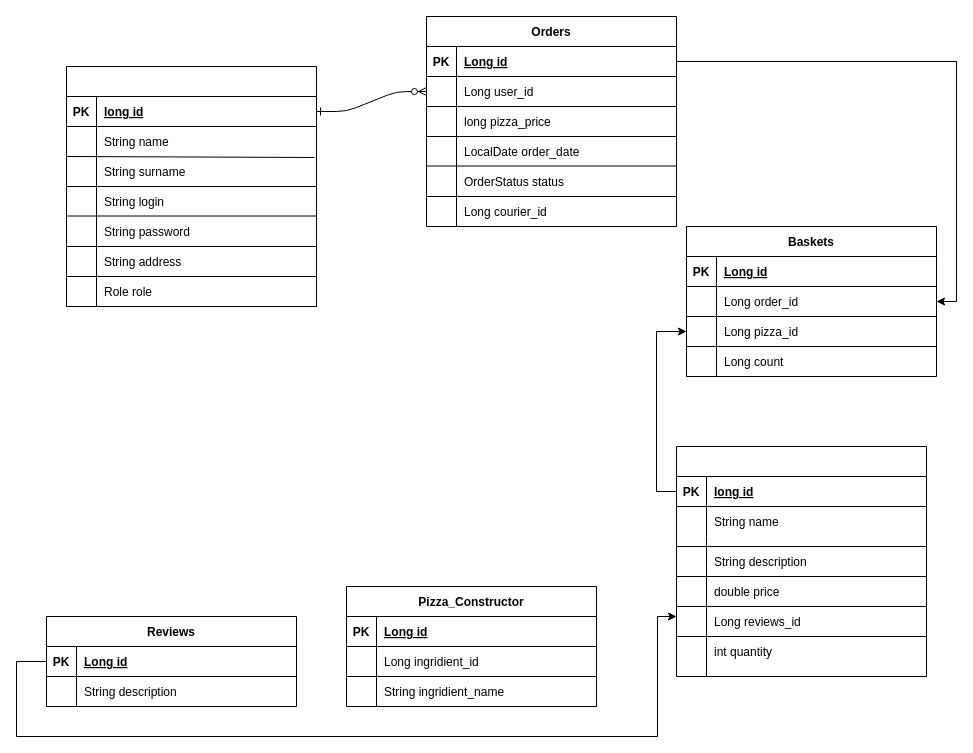
Image size: 973x753. Some labels were removed from this diagram. The box of each missing label's shape, as (x1, y1, x2, y2) in pixels:
Pizza: (676, 446, 926, 676)
Users: (66, 66, 316, 306)
